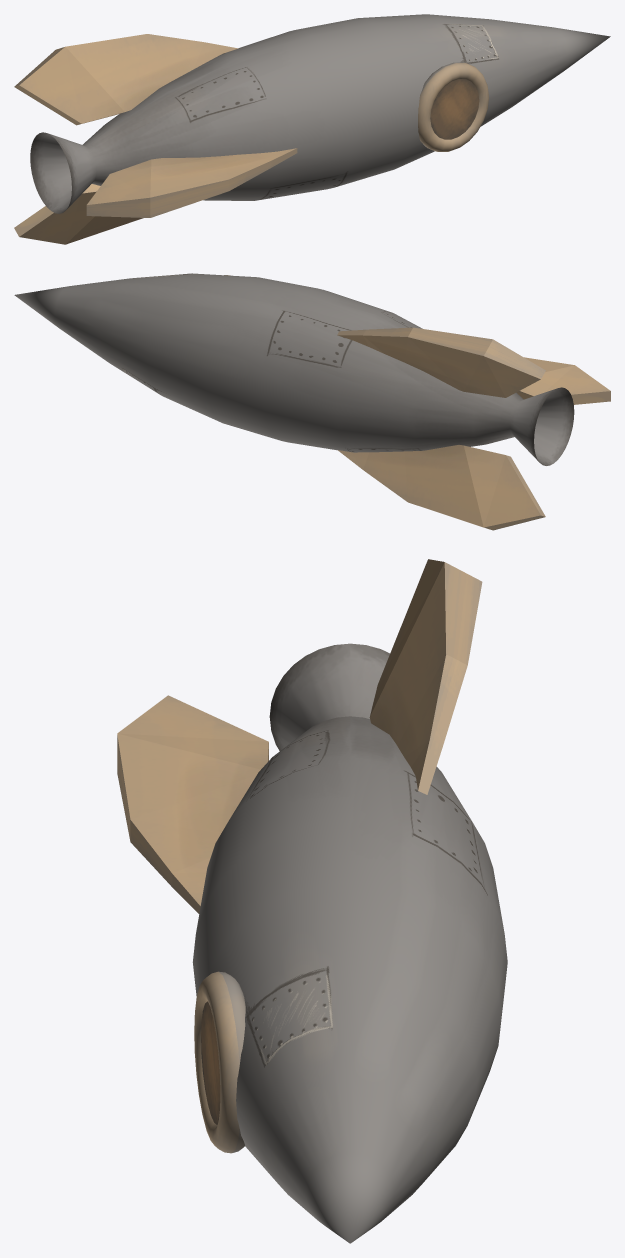
The model's file is ship_02a.obj.
The picture shows the model from 3 angles, top to bottom: view 1: azimuth 30°, elevation 25°; view 2: azimuth 150°, elevation 25°; view 3: azimuth 270°, elevation 25°; orthographic projection. The views are drawn at different scales.
Parts seen in each view (by area): view 1: Circle; view 2: Circle; view 3: Circle.
Boxes of the visible parts, x1,y1,x2,y2 form: Circle: [14, 14, 610, 244]; Circle: [14, 273, 610, 530]; Circle: [117, 559, 507, 1243].
Size of the model in its own units: 1.15 by 0.3825 by 0.3541.
